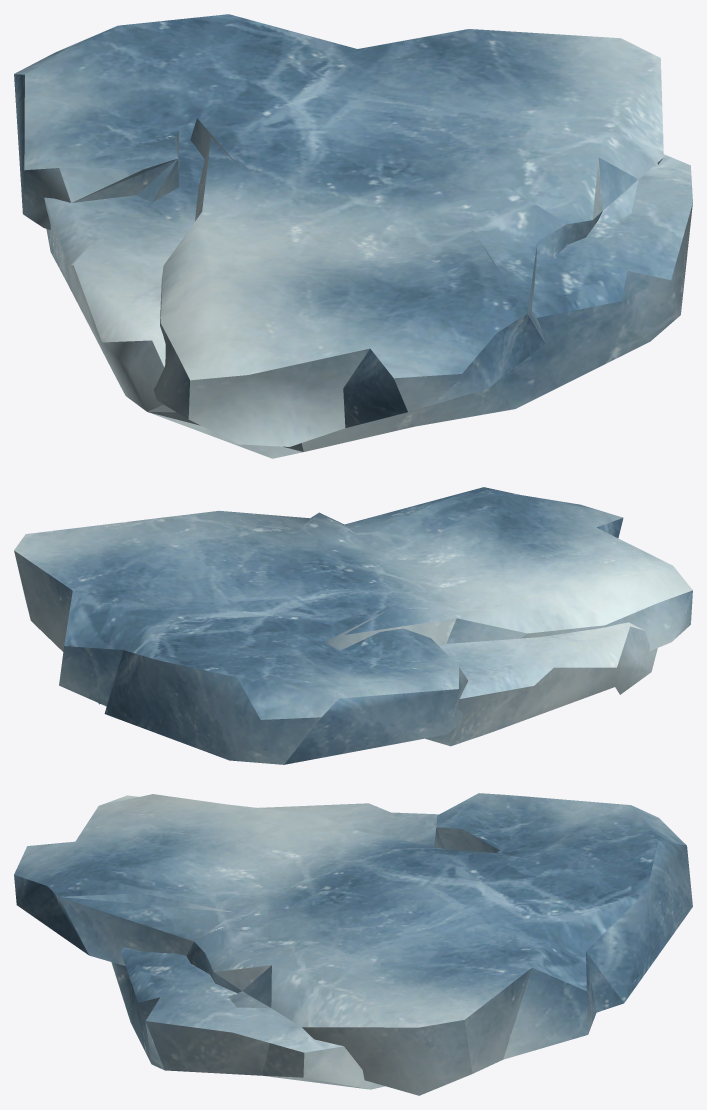
Rendered from S_Rock_White038.FBX.
The picture shows the model from 3 angles, top to bottom: view 1: azimuth 30°, elevation 25°; view 2: azimuth 150°, elevation 25°; view 3: azimuth 270°, elevation 25°; orthographic projection. The views are drawn at different scales.
Visible parts, largest first — view 1: S_Rock_White038; view 2: S_Rock_White038; view 3: S_Rock_White038.
Part boxes in pixels (left/top/right/bottom): S_Rock_White038: left=14, top=14, right=692, bottom=458; S_Rock_White038: left=14, top=487, right=692, bottom=764; S_Rock_White038: left=14, top=793, right=692, bottom=1095.
Bounding box in the file's own units: 1176 × 1268 × 303.
